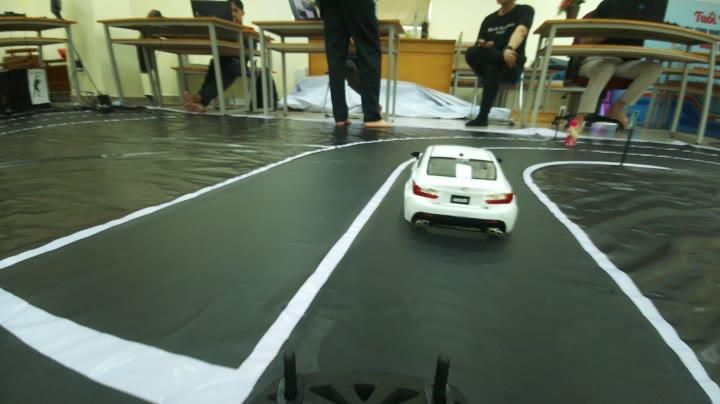car: (396, 130, 528, 244)
